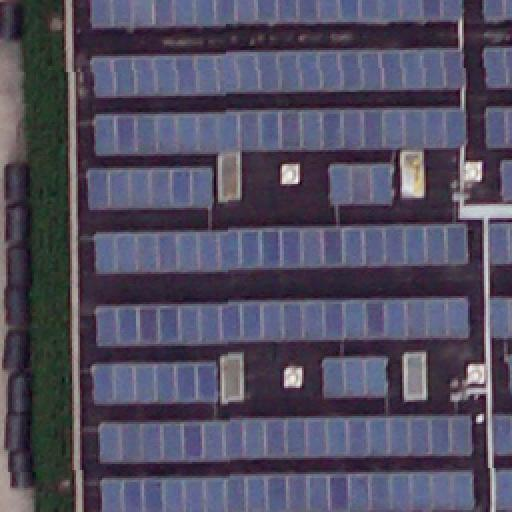solar-panel: (91, 296, 469, 348), (94, 415, 474, 465), (90, 223, 466, 273), (89, 47, 463, 97), (88, 108, 464, 156), (100, 468, 476, 512), (88, 0, 460, 32), (91, 165, 213, 211), (93, 363, 219, 405), (327, 163, 393, 205), (322, 358, 386, 398), (481, 45, 511, 91), (484, 107, 512, 149), (488, 294, 512, 338), (486, 224, 512, 264), (489, 411, 511, 453), (492, 467, 512, 509), (481, 1, 511, 23), (500, 159, 512, 201), (508, 354, 512, 394)
